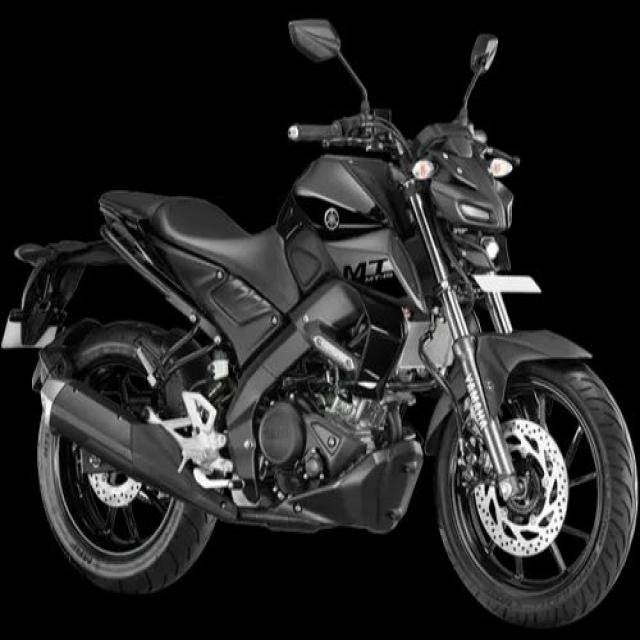Bike: (8, 24, 634, 622)
